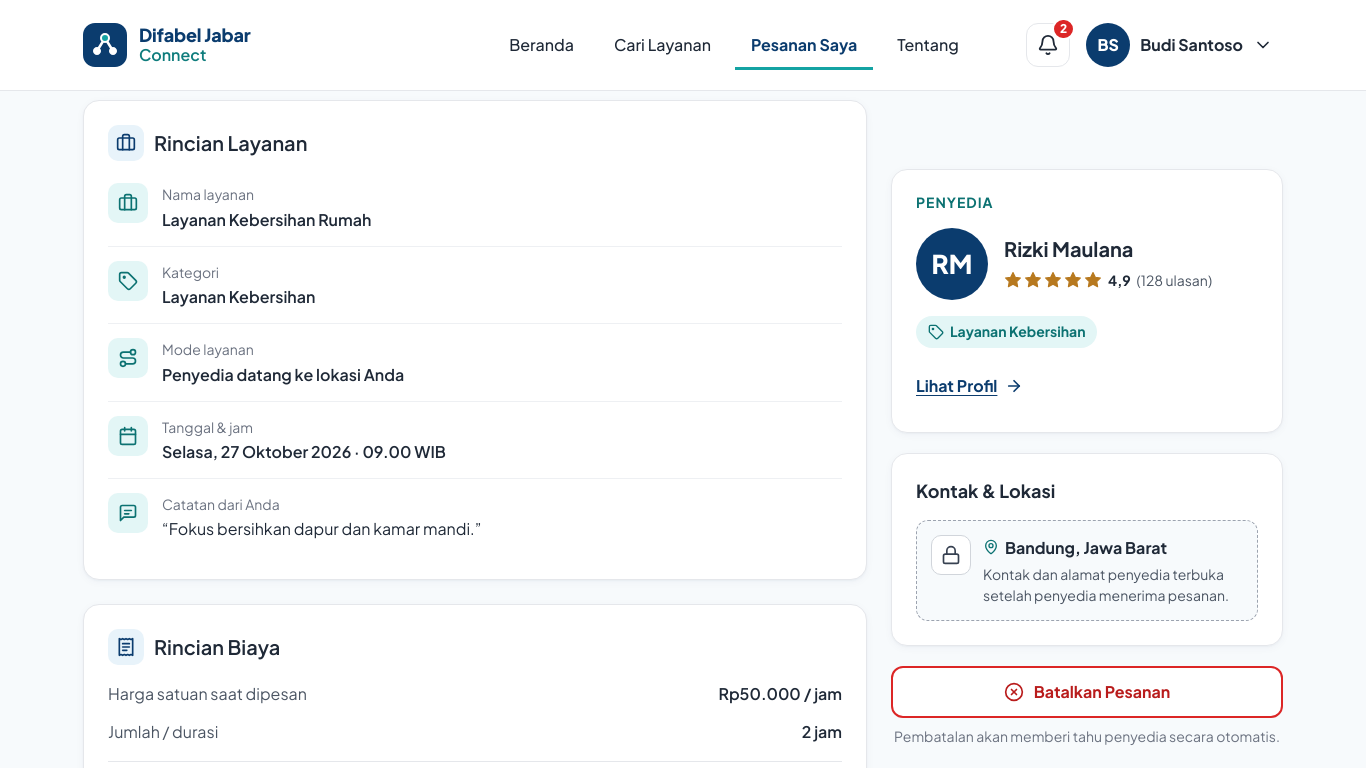
Test: Halaman Detail Pesanan › tombol Kembali menutup dialog tanpa membatalkan
(page scrolled)
Click the button with aria-label "Batalkan pesanan BK-0012" at (1087, 692), box [891, 666, 1283, 718]
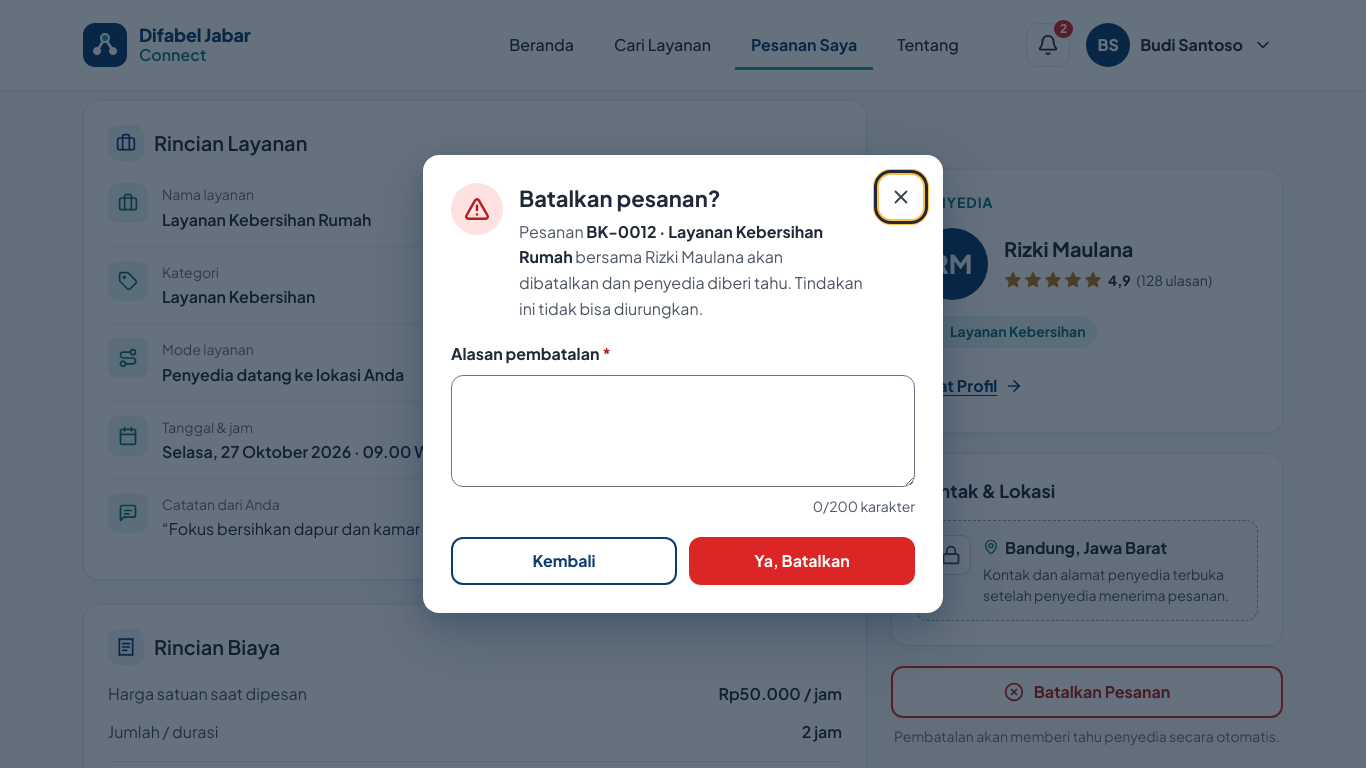
Click the button "Kembali" at (564, 561), box [451, 537, 677, 585]
(page scrolled)
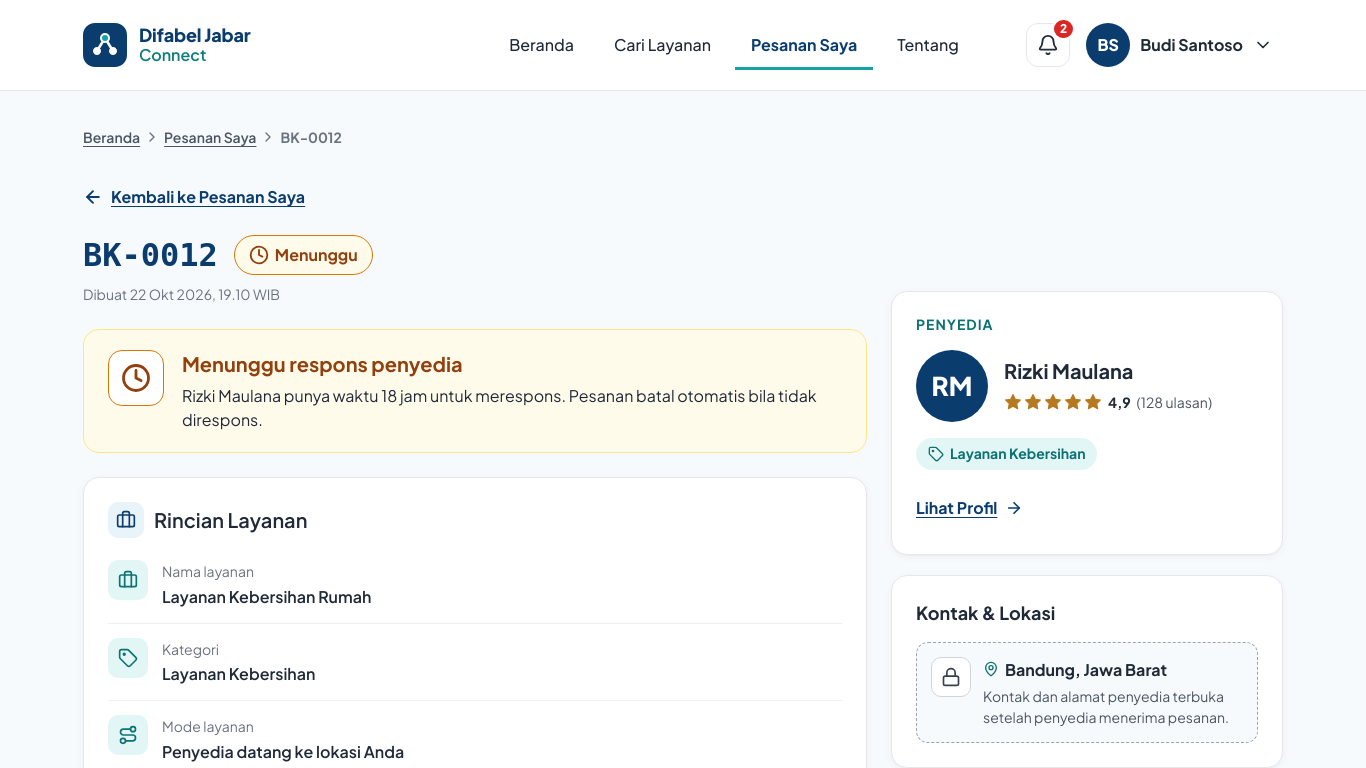
Check: the element named "Status pesanan" shows "Menunggu respons penyedia", box [182, 351, 462, 376]
Check: the dialog is gone
